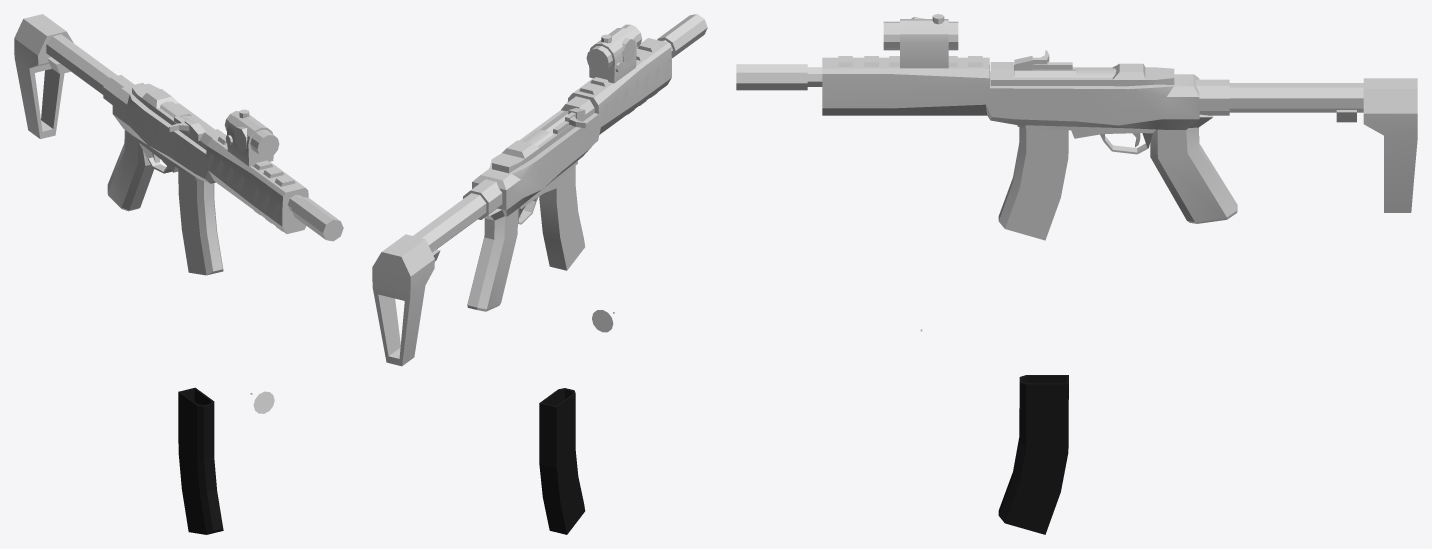
Rendered from M30Carbine_Gun.glb.
3 renders of one model, left to right at view 1: azimuth 30°, elevation 25°; view 2: azimuth 150°, elevation 25°; view 3: azimuth 270°, elevation 25°, orthographic. The views are drawn at different scales.
Parts seen in each view (by area): view 1: M30CarbineBody.001, M30CarbineMag; view 2: M30CarbineBody.001, M30CarbineMag; view 3: M30CarbineBody.001, M30CarbineMag.
Boxes of the visible parts, <box> form: M30CarbineBody.001: <box>14,14,343,275</box>; M30CarbineMag: <box>178,387,223,534</box>; M30CarbineBody.001: <box>372,14,707,366</box>; M30CarbineMag: <box>539,388,585,534</box>; M30CarbineBody.001: <box>736,14,1417,240</box>; M30CarbineMag: <box>998,375,1068,534</box>.
Size of the model in its own units: 0.0735 by 0.6876 by 0.8264.
Materials: 4 (1 with a texture image).
